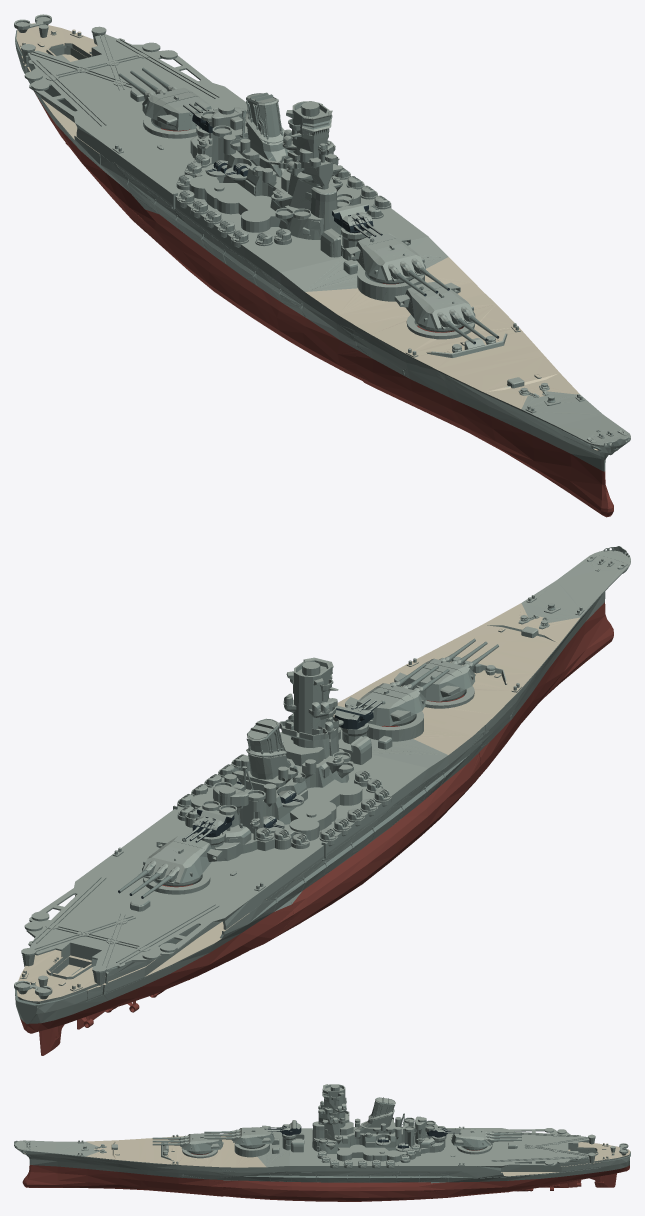
File: yamato.glb
The picture shows the model from 3 angles, top to bottom: view 1: azimuth 30°, elevation 25°; view 2: azimuth 150°, elevation 25°; view 3: azimuth 270°, elevation 25°; orthographic projection. The views are drawn at different scales.
Parts seen in each view (by area): view 1: Deck-roof-steel, Hull-underwater-hull, Deck-hull-steel, Deck-teak-deck, Superstructure-hull-steel, Hull-hull-steel, Superstructure-roof-steel, Body-roof-steel (×3), Body-hull-steel (×3), RearDeck-hull-steel; view 2: Deck-roof-steel, Hull-underwater-hull, Deck-hull-steel, Superstructure-hull-steel, Deck-teak-deck, Hull-hull-steel, Superstructure-roof-steel, Body-roof-steel (×3), Body-hull-steel (×3), RearDeck-hull-steel, RearDeck-teak-deck; view 3: Hull-underwater-hull, Deck-roof-steel, Deck-hull-steel, Hull-hull-steel, Superstructure-hull-steel, Deck-teak-deck, Superstructure-roof-steel, Body-hull-steel (×3), Body-roof-steel (×3), RearDeck-hull-steel, Secondary-0-auxiliary-barrels, Secondary-1-auxiliary-barrels (+1 smaller).
Boxes of the visible parts, left/top/right/bottom form: Deck-roof-steel: left=14, top=14, right=630, bottom=448; Hull-underwater-hull: left=35, top=94, right=613, bottom=517; Deck-hull-steel: left=14, top=15, right=630, bottom=455; Deck-teak-deck: left=16, top=23, right=598, bottom=450; Superstructure-hull-steel: left=176, top=93, right=360, bottom=239; Hull-hull-steel: left=15, top=30, right=608, bottom=471; Superstructure-roof-steel: left=176, top=92, right=360, bottom=235; Body-roof-steel (×3): left=144, top=85, right=474, bottom=328; Body-hull-steel (×3): left=142, top=87, right=475, bottom=331; RearDeck-hull-steel: left=21, top=48, right=100, bottom=164; Deck-roof-steel: left=14, top=546, right=630, bottom=992; Hull-underwater-hull: left=20, top=602, right=613, bottom=1055; Deck-hull-steel: left=14, top=546, right=630, bottom=1003; Superstructure-hull-steel: left=177, top=660, right=362, bottom=853; Deck-teak-deck: left=17, top=603, right=579, bottom=1001; Hull-hull-steel: left=15, top=591, right=605, bottom=1023; Superstructure-roof-steel: left=177, top=657, right=362, bottom=845; Body-roof-steel (×3): left=142, top=656, right=472, bottom=882; Body-hull-steel (×3): left=142, top=658, right=475, bottom=886; RearDeck-hull-steel: left=51, top=895, right=249, bottom=1000; RearDeck-teak-deck: left=52, top=895, right=249, bottom=990; Hull-underwater-hull: left=22, top=1149, right=629, bottom=1201; Deck-roof-steel: left=14, top=1125, right=627, bottom=1167; Deck-hull-steel: left=14, top=1127, right=630, bottom=1172; Hull-hull-steel: left=26, top=1148, right=630, bottom=1183; Superstructure-hull-steel: left=312, top=1085, right=435, bottom=1162; Deck-teak-deck: left=24, top=1133, right=630, bottom=1167; Superstructure-roof-steel: left=312, top=1084, right=436, bottom=1161; Body-hull-steel (×3): left=180, top=1126, right=494, bottom=1154; Body-roof-steel (×3): left=180, top=1125, right=494, bottom=1148; RearDeck-hull-steel: left=476, top=1149, right=601, bottom=1178; Secondary-0-auxiliary-barrels: left=267, top=1121, right=301, bottom=1135; Secondary-1-auxiliary-barrels: left=427, top=1122, right=460, bottom=1137.
Size of the model in its own units: 41.12 by 48.35 by 267.
